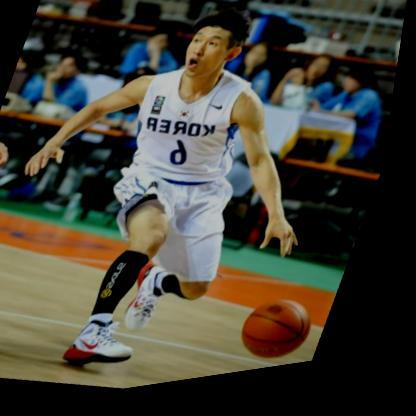basketball: (244, 299, 332, 379)
